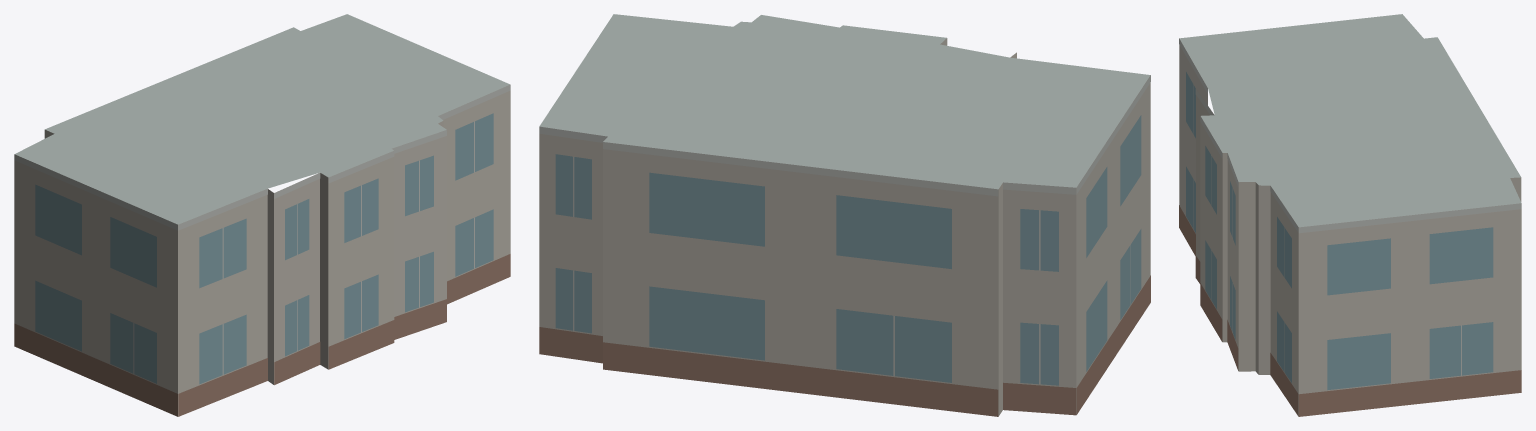
The model's file is survey-upis-32616233.glb.
The picture shows the model from 3 angles, left to right: view 1: azimuth 30°, elevation 25°; view 2: azimuth 150°, elevation 25°; view 3: azimuth 270°, elevation 25°; orthographic projection. The views are drawn at different scales.
Parts seen in each view (by area): view 1: survey-upis-32616233.tmp; view 2: survey-upis-32616233.tmp; view 3: survey-upis-32616233.tmp.
Boxes of the visible parts, x1,y1,x2,y2 form: survey-upis-32616233.tmp: (14,14,510,416); survey-upis-32616233.tmp: (539,14,1150,416); survey-upis-32616233.tmp: (1179,14,1521,416).
Bounding box in the file's own units: 18.85 × 7.8 × 12.78.
